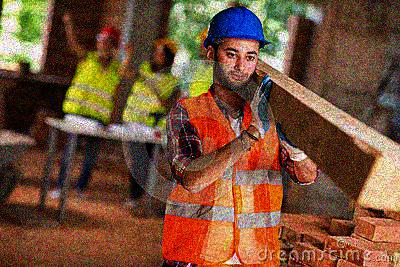helmet: (202, 7, 271, 88), (94, 25, 121, 56), (152, 37, 177, 65), (196, 23, 215, 56)
